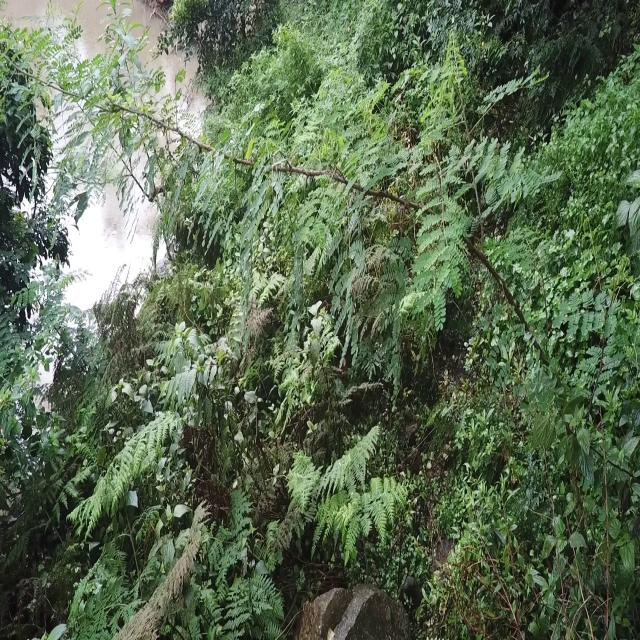Mysore-Thorn-Weed: (0, 0, 399, 336), (405, 35, 638, 558)
